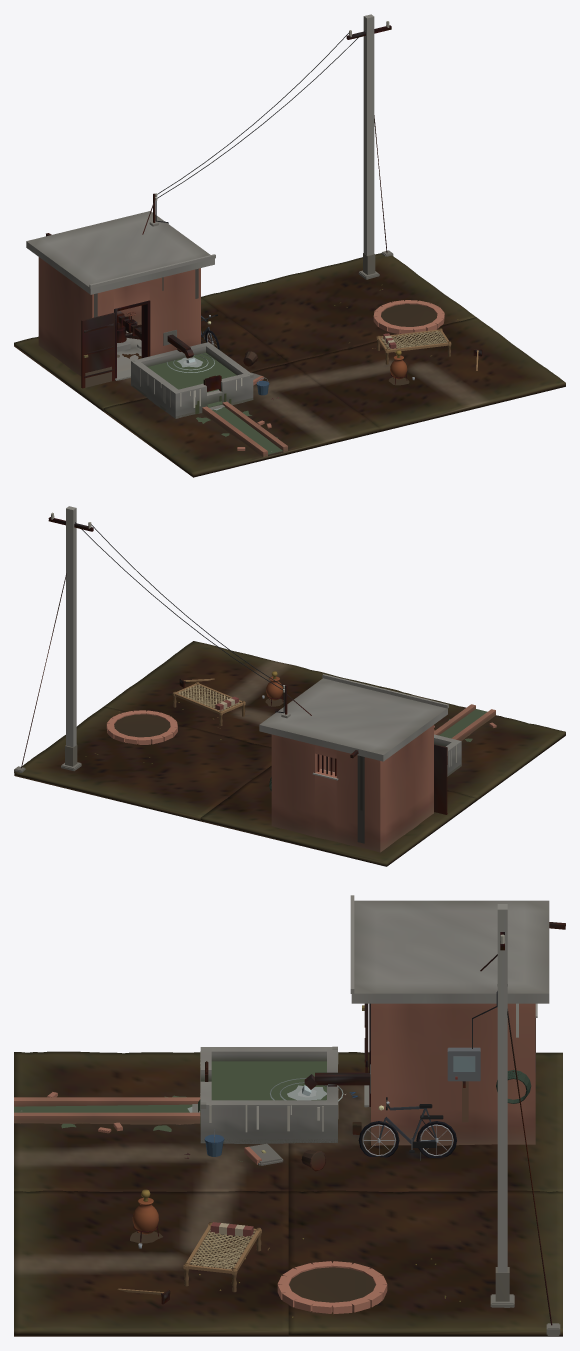
File: tubewell_v2.glb
The picture shows the model from 3 angles, top to bottom: view 1: azimuth 30°, elevation 25°; view 2: azimuth 150°, elevation 25°; view 3: azimuth 270°, elevation 25°; orthographic projection. The views are drawn at different scales.
Visible parts, largest first — view 1: hb_main, hb_brick, hb_metal, tubewell_water, hb_props; view 2: hb_main, hb_brick, hb_metal, hb_props, tubewell_water; view 3: hb_main, hb_brick, tubewell_water, hb_metal, hb_props.
Part boxes in pixels (x1,y1,x2,y2): hb_main: [14, 14, 565, 477]; hb_brick: [38, 257, 444, 457]; hb_metal: [46, 25, 482, 391]; tubewell_water: [148, 353, 282, 454]; hb_props: [376, 328, 478, 370]; hb_main: [14, 506, 565, 866]; hb_brick: [106, 704, 496, 852]; hb_metal: [21, 517, 447, 814]; hb_props: [172, 678, 245, 725]; tubewell_water: [439, 709, 487, 741]; hb_main: [14, 895, 562, 1336]; hb_brick: [14, 1003, 535, 1313]; tubewell_water: [14, 1061, 326, 1161]; hb_metal: [133, 922, 565, 1325]; hb_props: [117, 1222, 261, 1294].
Bounding box in the file's own units: 12.05 × 8.08 × 10.05.
